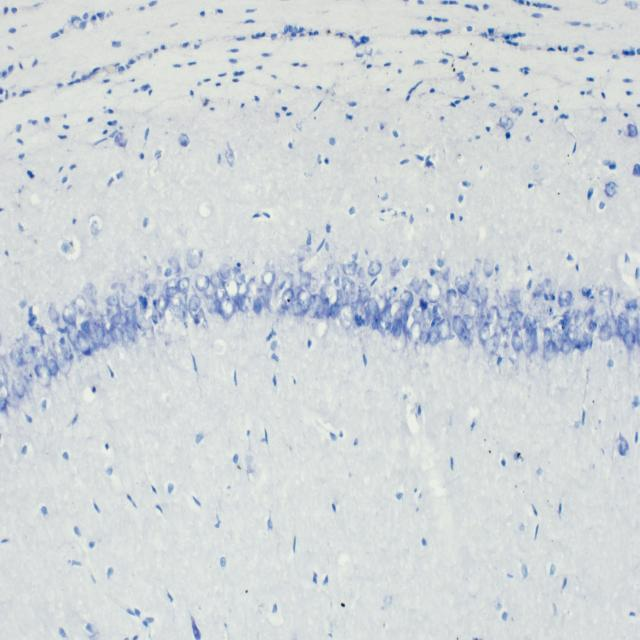neuron: (30, 345, 46, 375), (339, 302, 354, 330), (76, 330, 92, 356), (91, 318, 105, 347), (376, 310, 392, 335), (54, 354, 73, 374), (436, 318, 452, 341), (83, 280, 98, 304), (297, 289, 312, 313), (310, 294, 325, 318), (445, 288, 462, 309), (355, 304, 371, 326), (36, 364, 50, 389), (525, 328, 537, 357), (46, 332, 59, 358), (66, 321, 80, 345), (186, 248, 202, 269), (220, 298, 235, 320), (70, 296, 88, 314), (341, 275, 355, 298), (11, 377, 26, 398), (259, 282, 272, 306), (498, 306, 511, 330), (452, 315, 466, 337), (223, 279, 239, 298), (110, 324, 123, 347), (62, 304, 76, 325), (260, 270, 276, 288), (276, 273, 294, 289), (432, 304, 448, 322), (483, 253, 495, 277), (357, 282, 370, 304), (486, 333, 499, 355), (426, 283, 441, 302), (455, 275, 470, 294), (459, 328, 474, 347), (20, 344, 34, 364), (59, 340, 73, 360), (368, 297, 380, 320), (617, 315, 629, 338), (399, 290, 414, 308), (558, 290, 573, 308), (412, 309, 426, 328), (598, 287, 612, 306), (409, 321, 421, 343), (567, 324, 579, 346), (10, 346, 23, 366), (48, 304, 61, 324), (195, 274, 210, 291), (305, 276, 319, 294), (606, 316, 617, 338), (341, 261, 357, 276), (512, 332, 524, 352), (544, 342, 556, 362), (623, 330, 635, 350), (573, 310, 587, 327), (46, 359, 59, 377), (205, 295, 218, 313), (210, 270, 223, 288), (599, 323, 612, 341), (487, 305, 499, 324), (626, 317, 638, 336), (122, 293, 137, 308), (6, 392, 20, 408), (297, 245, 311, 261), (325, 263, 339, 279), (368, 260, 382, 276), (165, 279, 178, 296), (177, 278, 190, 295), (408, 277, 421, 294), (510, 310, 523, 327), (283, 288, 294, 308), (389, 300, 401, 318), (524, 313, 536, 331), (578, 333, 590, 351), (389, 257, 400, 276), (562, 308, 575, 324), (99, 334, 111, 351), (188, 295, 200, 312), (508, 288, 520, 305), (253, 296, 263, 316), (392, 320, 402, 340), (480, 322, 490, 342), (236, 294, 247, 312), (499, 330, 510, 348), (543, 327, 552, 349), (215, 287, 228, 302), (110, 310, 122, 326), (462, 314, 474, 330), (276, 297, 287, 314), (106, 293, 120, 306), (31, 324, 46, 336), (136, 313, 146, 331), (158, 294, 168, 312), (168, 256, 180, 271), (300, 272, 312, 287), (479, 283, 489, 301), (219, 263, 230, 279), (429, 329, 440, 345), (475, 306, 483, 328), (560, 338, 571, 354), (0, 356, 9, 375), (374, 282, 384, 299), (170, 295, 183, 308), (80, 320, 92, 334), (415, 339, 426, 354), (179, 302, 187, 322), (330, 302, 340, 318), (335, 288, 343, 308), (469, 286, 480, 300), (0, 383, 9, 400), (499, 292, 508, 309), (324, 297, 331, 318), (194, 309, 203, 325), (238, 281, 247, 297), (402, 308, 408, 332), (624, 298, 636, 310), (124, 309, 135, 322), (144, 283, 155, 296), (126, 329, 136, 343), (124, 321, 138, 331), (357, 267, 367, 281), (0, 369, 8, 386), (292, 299, 300, 316), (420, 331, 430, 344), (234, 270, 243, 284), (348, 294, 357, 308), (383, 286, 392, 300), (394, 307, 403, 321), (144, 317, 152, 332), (587, 303, 597, 315), (0, 398, 8, 412), (589, 319, 597, 333), (164, 267, 173, 277), (371, 316, 376, 332), (384, 320, 392, 330), (150, 315, 158, 324), (582, 286, 588, 297)
